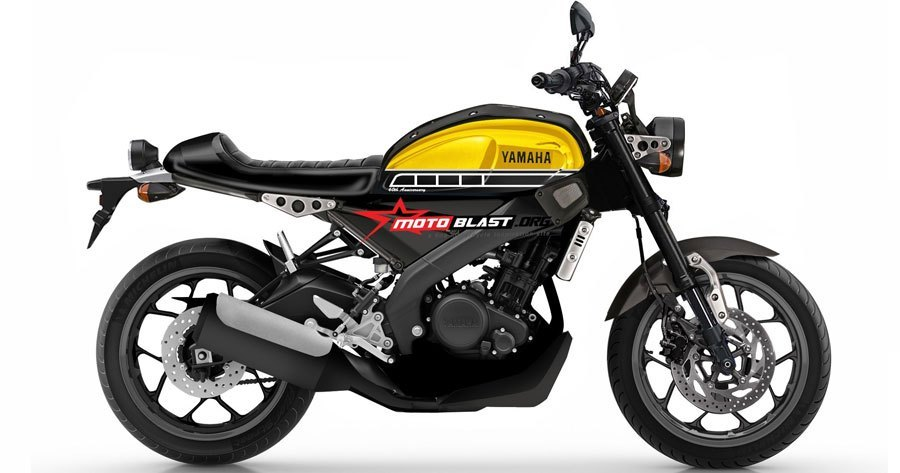motorcycle: (82, 58, 828, 468)
